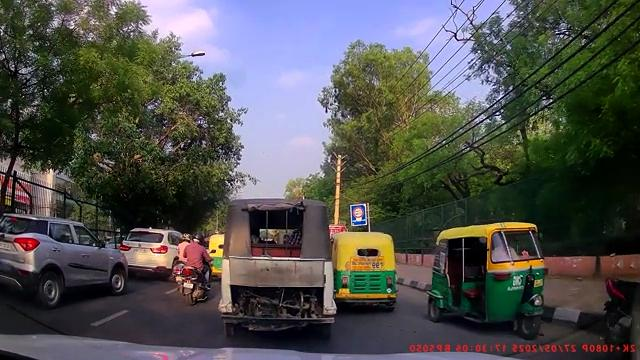motorcycle_with_helmet: (176, 233, 212, 306)
